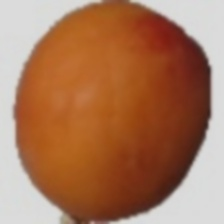apricot: (33, 57, 200, 207)
